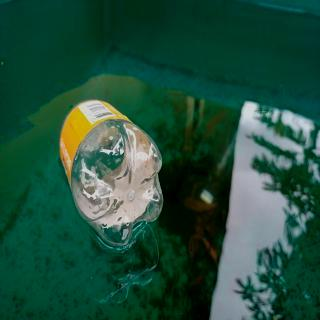bottle: (57, 97, 164, 250)
